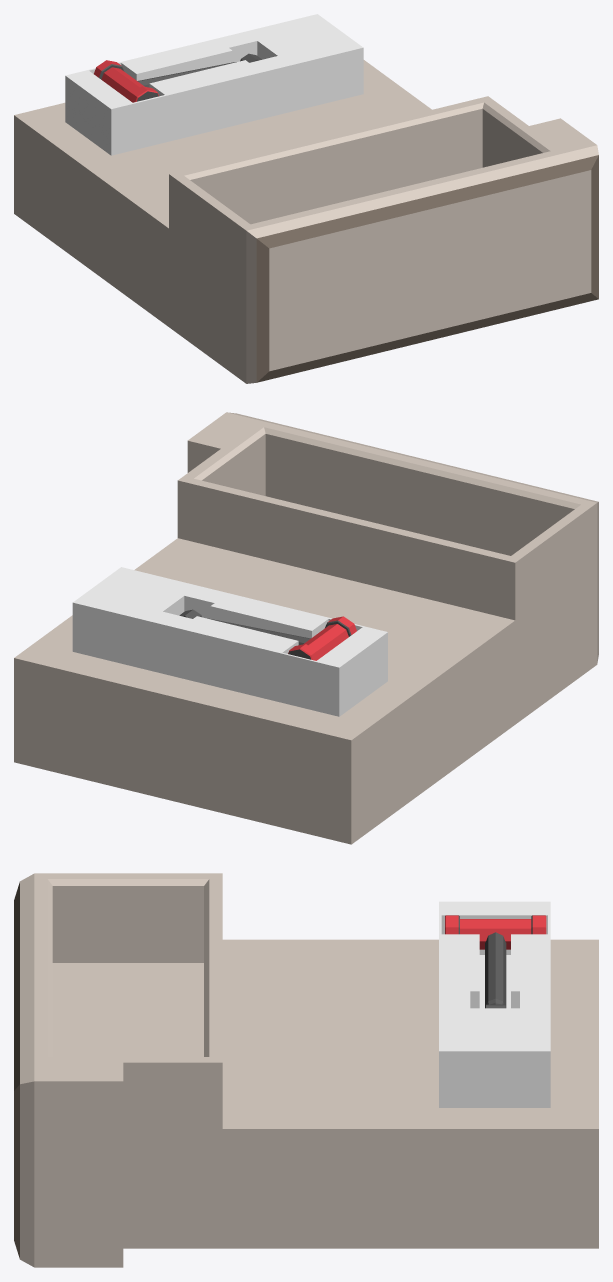
The model's file is DrawerMotion.fbx.
3 views of the same model, one above another, from view 1: azimuth 30°, elevation 25°; view 2: azimuth 150°, elevation 25°; view 3: azimuth 270°, elevation 25° (orthographic). The views are drawn at different scales.
Parts seen in each view (by area): view 1: Drawer, ElecLeverBase, ElecLever; view 2: Drawer, ElecLeverBase, ElecLever; view 3: Drawer, ElecLeverBase, ElecLever.
Boxes of the visible parts, <box> form: Drawer: <box>14,60,598,383</box>; ElecLeverBase: <box>65,14,363,155</box>; ElecLever: <box>94,53,261,102</box>; Drawer: <box>14,412,598,844</box>; ElecLeverBase: <box>72,567,387,716</box>; ElecLever: <box>179,609,356,660</box>; Drawer: <box>14,873,598,1267</box>; ElecLeverBase: <box>439,901,550,1107</box>; ElecLever: <box>445,915,546,1008</box>.
Bounding box in the file's own units: 34.24 × 14.29 × 40.72.
